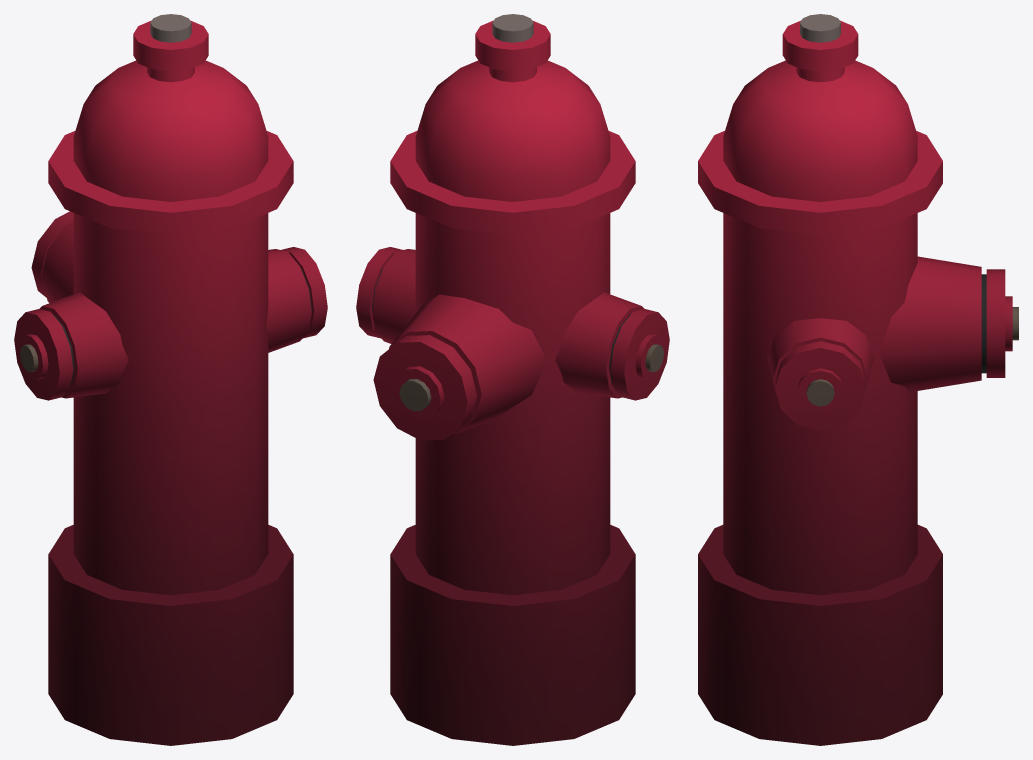
Rendered from FireHydrant1.fbx.
3 views of the same model, side by side, from view 1: azimuth 30°, elevation 25°; view 2: azimuth 150°, elevation 25°; view 3: azimuth 270°, elevation 25° (orthographic).
Parts seen in each view (by area): view 1: Гидрант.006; view 2: Гидрант.006; view 3: Гидрант.006.
Boxes of the visible parts, x1,y1,x2,y2 form: Гидрант.006: (14, 14, 327, 745); Гидрант.006: (356, 14, 669, 745); Гидрант.006: (698, 14, 1018, 745).
Size of the model in its own units: 67.83 by 151 by 65.47.
